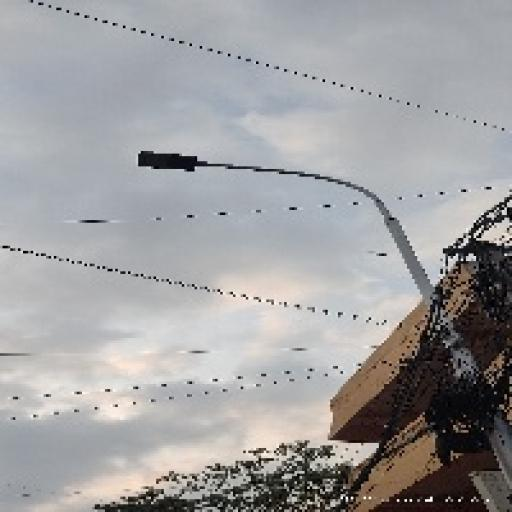Not Working: (128, 145, 208, 180)
